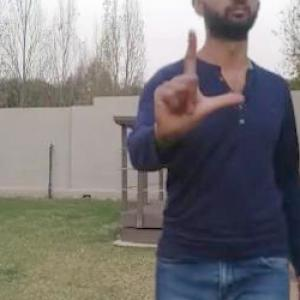land_hand: (150, 24, 244, 136)
